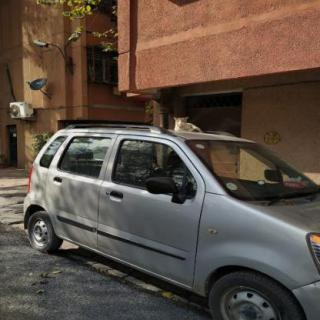Normal_vehicle: (24, 125, 319, 319)
